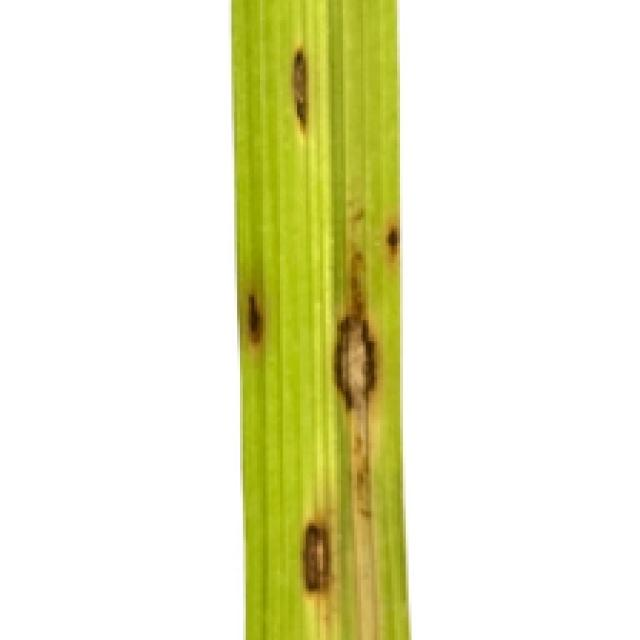Rice___Rice_Blast: (232, 0, 411, 637)
